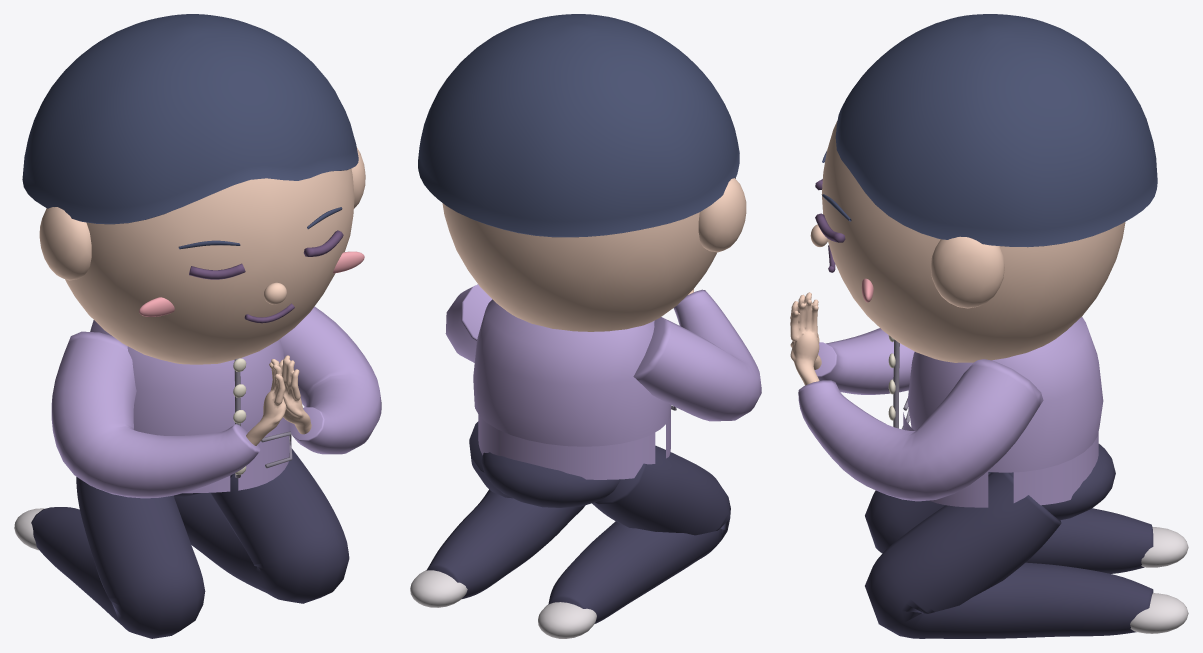
The model's file is meditator_male_kneel_prayer_p06a.glb.
3 renders of one model, left to right at view 1: azimuth 30°, elevation 25°; view 2: azimuth 150°, elevation 25°; view 3: azimuth 270°, elevation 25°, orthographic. The views are drawn at different scales.
Parts seen in each view (by area): view 1: hair_neat_male_sidepart_p06a_object, skin_rose_cream_UpperBodyBreath_object, ao_ba_ba_top_UpperBodyBreath_object, ao_ba_ba_pants_SeatRoot_object, eyes_mauve_UpperBodyBreath_object, skin_blush_UpperBodyBreath_object, sandal_trim_SeatRoot_object, ao_ba_ba_placket_UpperBodyBreath_object; view 2: hair_neat_male_sidepart_p06a_object, ao_ba_ba_top_UpperBodyBreath_object, ao_ba_ba_pants_SeatRoot_object, skin_rose_cream_UpperBodyBreath_object, sandal_trim_SeatRoot_object; view 3: hair_neat_male_sidepart_p06a_object, ao_ba_ba_top_UpperBodyBreath_object, ao_ba_ba_pants_SeatRoot_object, skin_rose_cream_UpperBodyBreath_object, sandal_trim_SeatRoot_object, eyes_mauve_UpperBodyBreath_object, ao_ba_ba_placket_UpperBodyBreath_object.
Part boxes in pixels (x1,y1,x2,y2): hair_neat_male_sidepart_p06a_object: [22, 14, 358, 249]; skin_rose_cream_UpperBodyBreath_object: [39, 147, 365, 445]; ao_ba_ba_top_UpperBodyBreath_object: [51, 306, 381, 498]; ao_ba_ba_pants_SeatRoot_object: [31, 449, 349, 638]; eyes_mauve_UpperBodyBreath_object: [189, 230, 343, 323]; skin_blush_UpperBodyBreath_object: [139, 251, 364, 316]; sandal_trim_SeatRoot_object: [14, 508, 44, 550]; ao_ba_ba_placket_UpperBodyBreath_object: [234, 358, 292, 478]; hair_neat_male_sidepart_p06a_object: [418, 14, 739, 237]; ao_ba_ba_top_UpperBodyBreath_object: [445, 284, 761, 479]; ao_ba_ba_pants_SeatRoot_object: [426, 421, 730, 623]; skin_rose_cream_UpperBodyBreath_object: [442, 178, 746, 331]; sandal_trim_SeatRoot_object: [410, 570, 596, 638]; hair_neat_male_sidepart_p06a_object: [822, 14, 1157, 247]; ao_ba_ba_top_UpperBodyBreath_object: [798, 317, 1103, 507]; ao_ba_ba_pants_SeatRoot_object: [865, 444, 1153, 638]; skin_rose_cream_UpperBodyBreath_object: [790, 120, 1125, 385]; sandal_trim_SeatRoot_object: [1130, 527, 1188, 633]; eyes_mauve_UpperBodyBreath_object: [815, 179, 845, 272]; ao_ba_ba_placket_UpperBodyBreath_object: [893, 340, 909, 429].
Size of the model in its own units: 0.672 by 1.16 by 0.7285.
